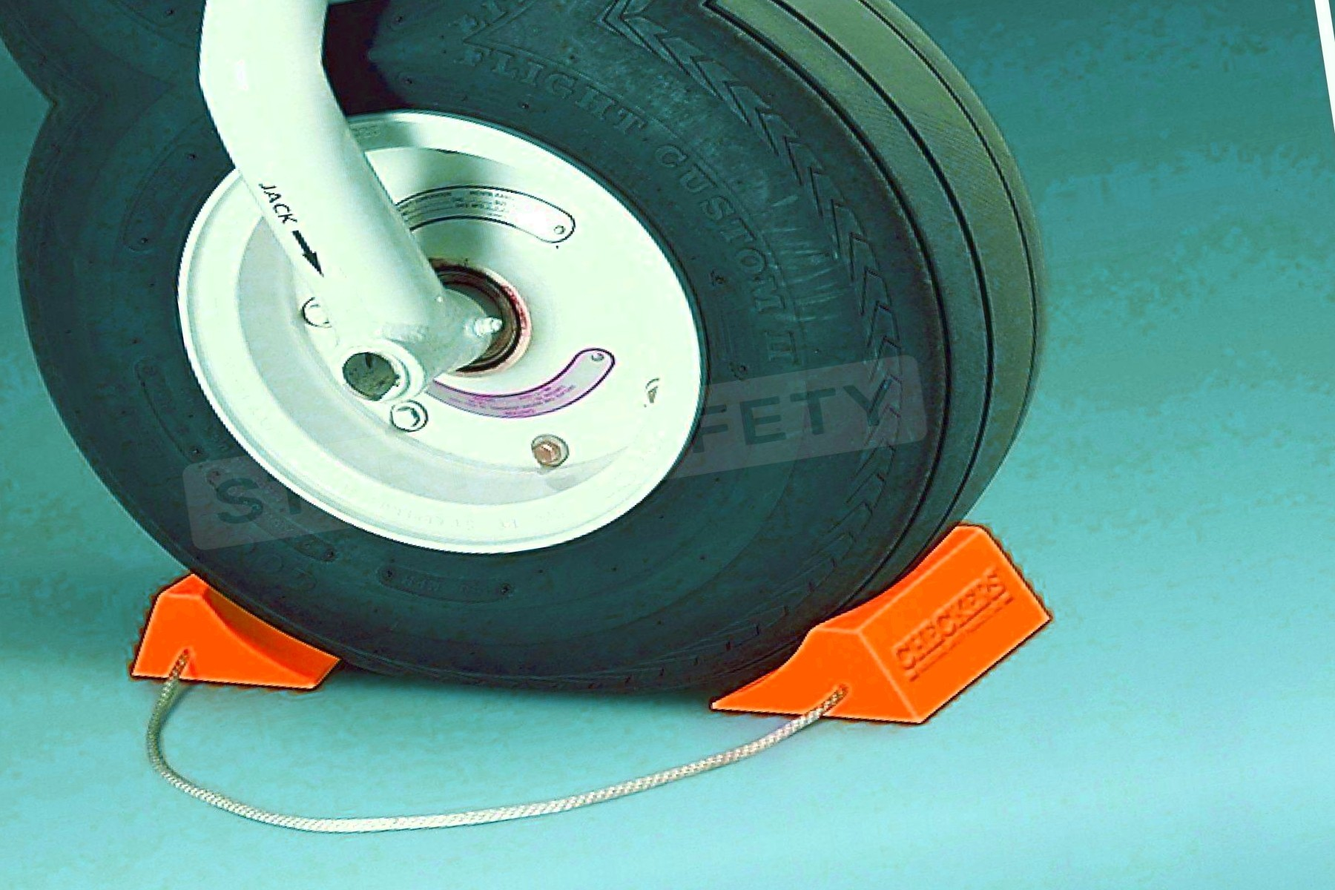chock: (686, 511, 1071, 758), (116, 549, 346, 718)
wheel: (0, 0, 1106, 785)
